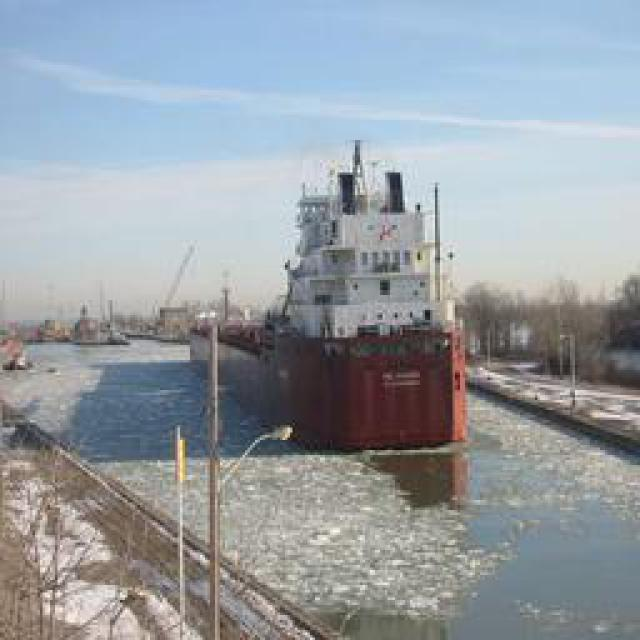Ship: (187, 151, 482, 464)
